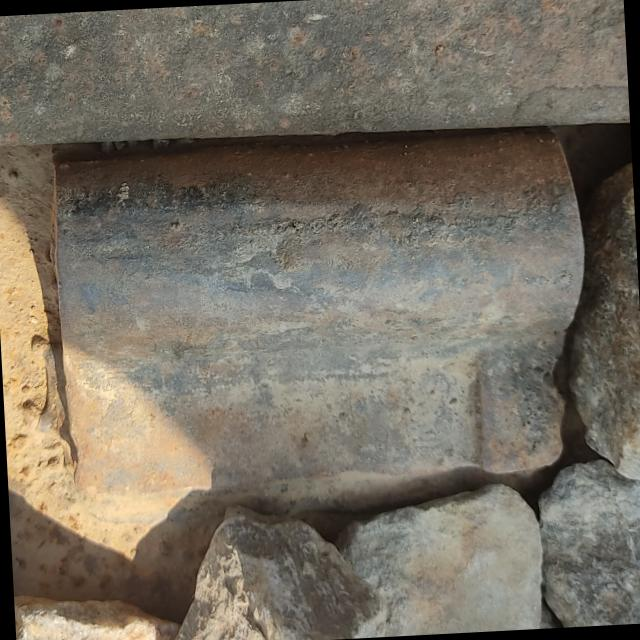track_bolt_missing: (40, 118, 598, 396)
